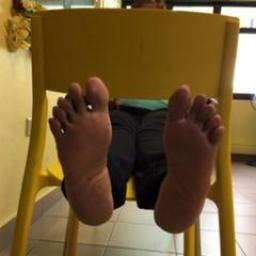Plantar View -Both Feet-: (30, 64, 238, 246)
